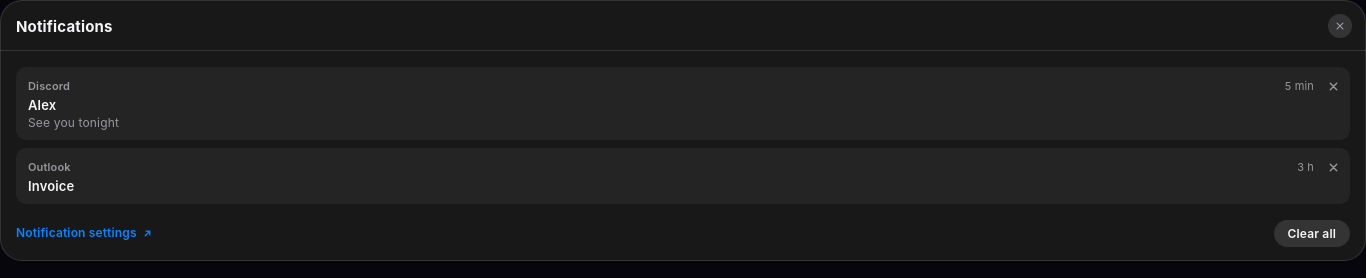
Test: the cross dismisses that one, at once, and doesn't open it
This screenshot has width=1366, height=278.
Click the button named "Dismiss Alex" at (1333, 86), box [1322,75,1344,97]
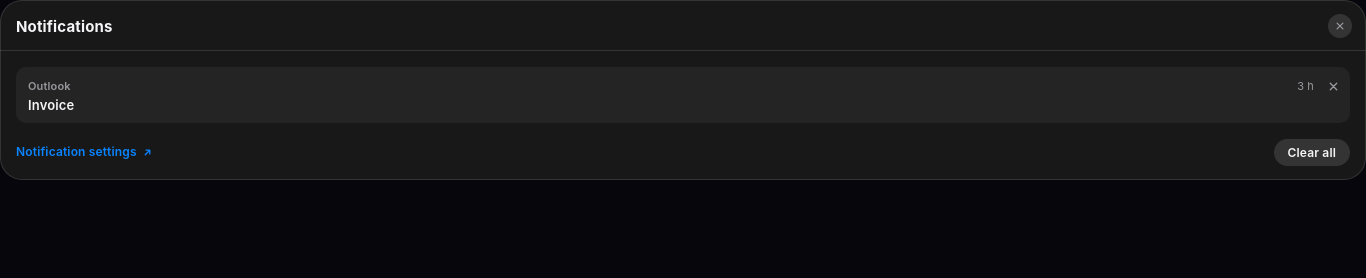
Check: the text "Alex" is gone
